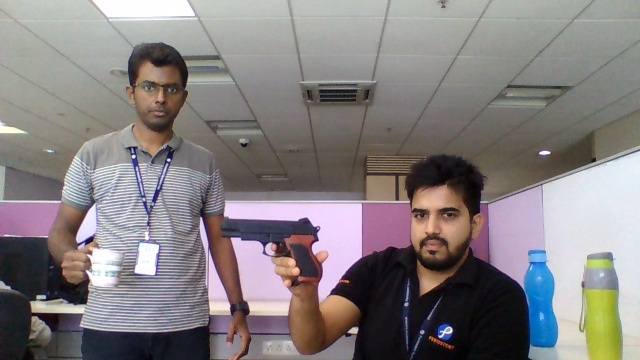gun: (221, 216, 319, 256)
